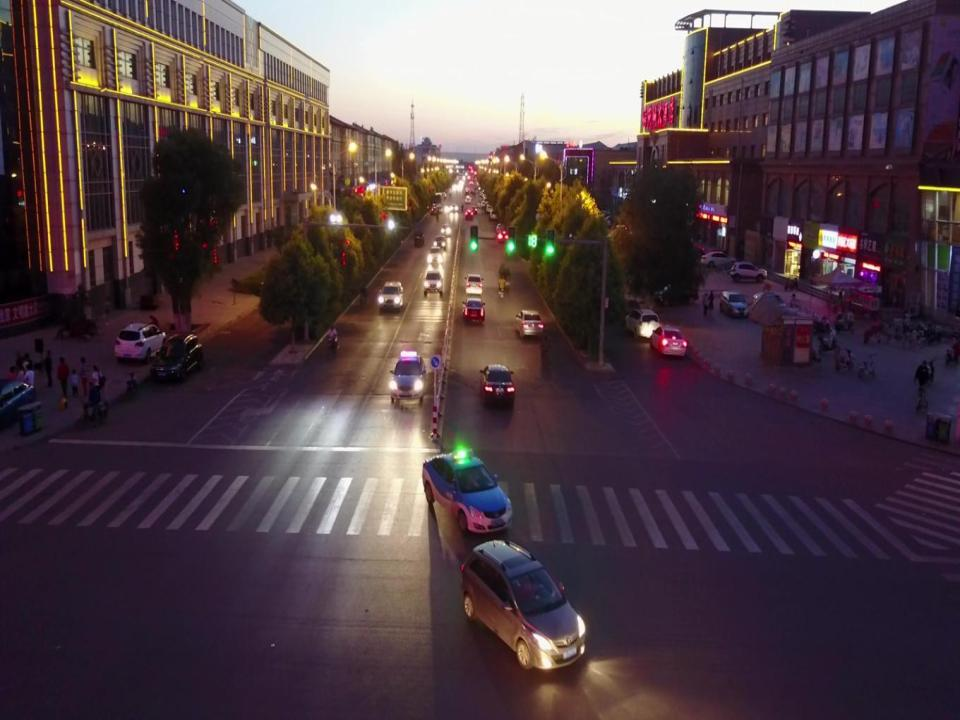car: (462, 538, 588, 672), (421, 450, 511, 534), (114, 323, 167, 360), (0, 376, 36, 429), (393, 349, 427, 402), (482, 360, 515, 404), (622, 308, 659, 339), (650, 326, 686, 356), (512, 308, 545, 340), (720, 290, 750, 317), (378, 278, 403, 310), (753, 292, 785, 314), (700, 250, 737, 268), (733, 262, 766, 282), (464, 296, 486, 321), (467, 274, 482, 294), (426, 272, 440, 293), (429, 246, 441, 262), (433, 236, 445, 251), (414, 230, 424, 248), (497, 231, 508, 243), (443, 224, 451, 236), (496, 223, 504, 234), (486, 205, 494, 214), (430, 206, 438, 215), (489, 212, 498, 219), (466, 210, 472, 218), (437, 206, 443, 213), (472, 207, 477, 215)
van: (151, 333, 203, 383)
